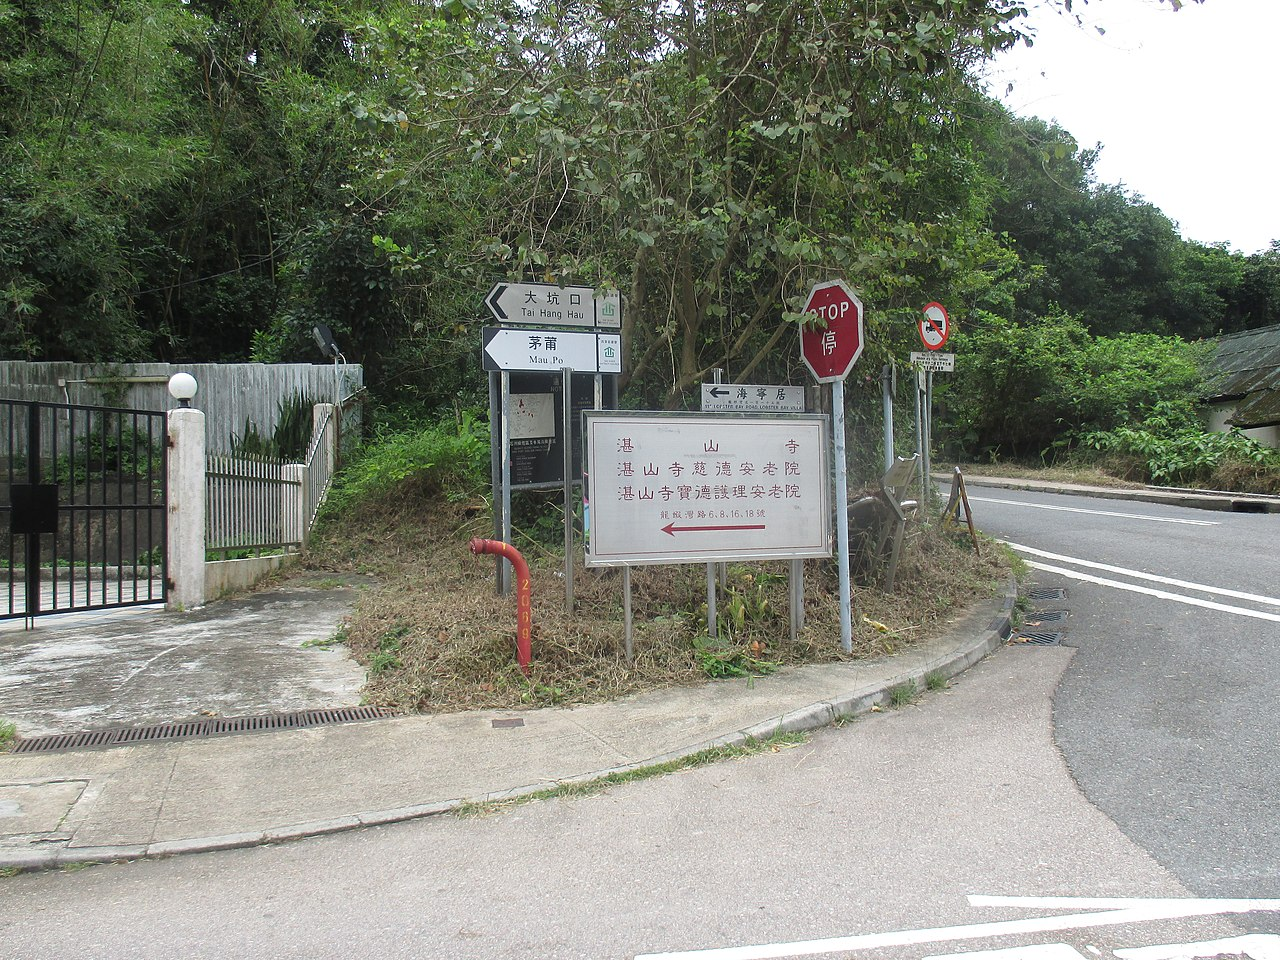No Car: (914, 295, 957, 353)
Stop: (797, 273, 862, 393)
